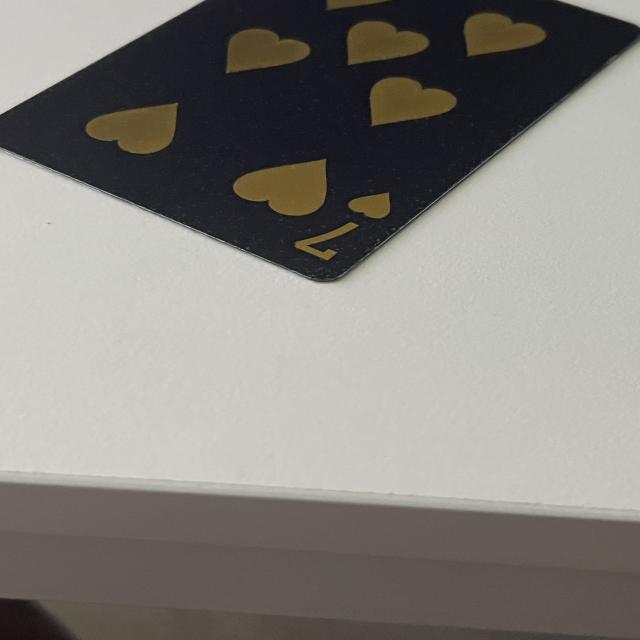7H: (291, 179, 399, 271)
